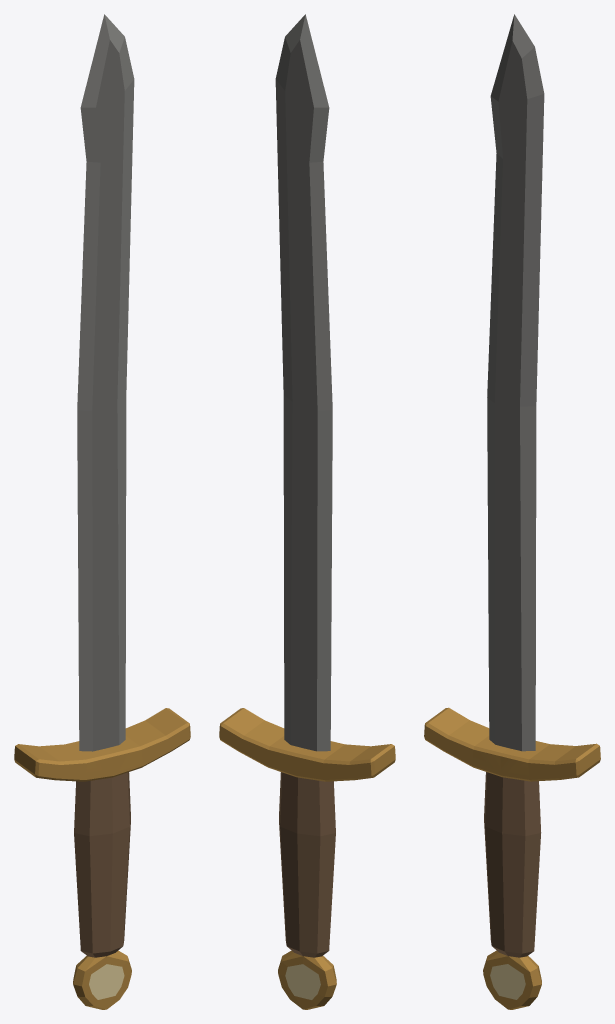
The model's file is SM_pwe_persia_sword_04.fbx.
3 renders of one model, left to right at view 1: azimuth 30°, elevation 25°; view 2: azimuth 150°, elevation 25°; view 3: azimuth 330°, elevation 25°, orthographic.
Parts seen in each view (by area): view 1: SM_pwe_persia_sword_04; view 2: SM_pwe_persia_sword_04; view 3: SM_pwe_persia_sword_04.
Boxes of the visible parts, x1=… form: SM_pwe_persia_sword_04: x1=14, y1=14, x2=190, y2=1009; SM_pwe_persia_sword_04: x1=219, y1=14, x2=395, y2=1009; SM_pwe_persia_sword_04: x1=424, y1=14, x2=600, y2=1009.
Size of the model in its own units: 14.39 by 87.86 by 3.74.
